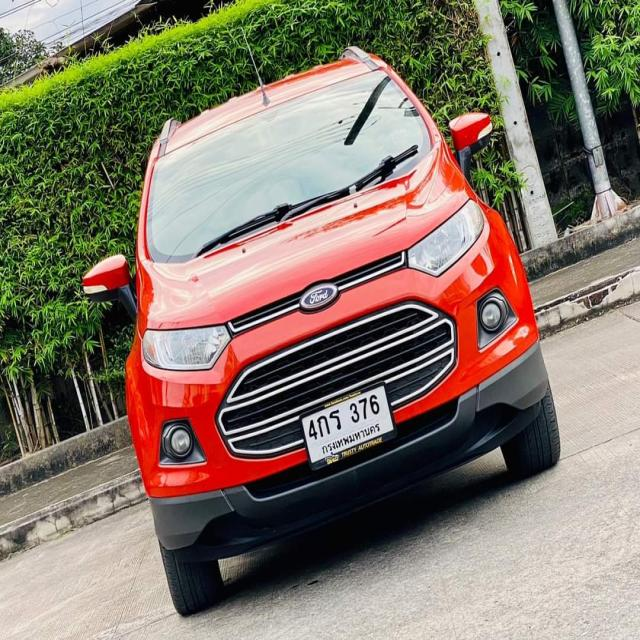license_plate: (297, 378, 397, 472)
